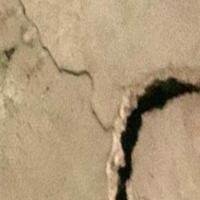crack: (27, 6, 199, 199)
